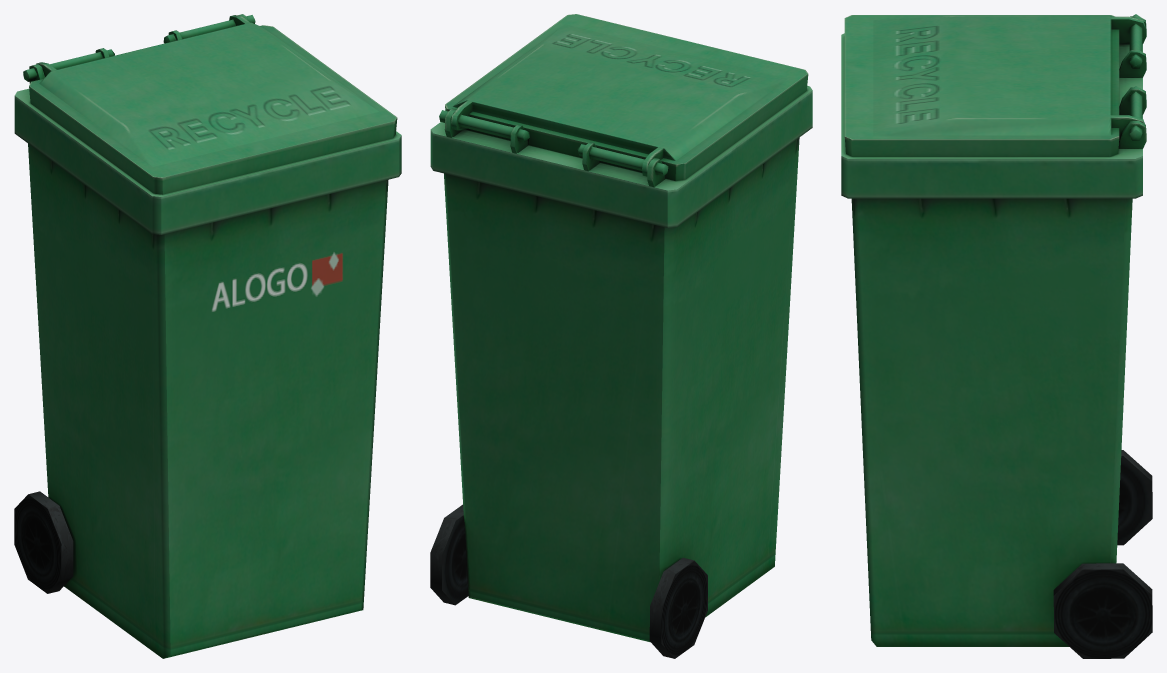
Rendered from Sun_0010_House_tall_plastic_lidded_recycle_bin.fbx.
3 views of the same model, side by side, from view 1: azimuth 30°, elevation 25°; view 2: azimuth 150°, elevation 25°; view 3: azimuth 270°, elevation 25° (orthographic). The views are drawn at different scales.
Visible parts, largest first — view 1: Sun_0010_House_tall_plastic_lidded_recycle_bin; view 2: Sun_0010_House_tall_plastic_lidded_recycle_bin; view 3: Sun_0010_House_tall_plastic_lidded_recycle_bin.
Part boxes in pixels (x1=…): Sun_0010_House_tall_plastic_lidded_recycle_bin: x1=14, y1=14, x2=401, y2=658; Sun_0010_House_tall_plastic_lidded_recycle_bin: x1=430, y1=14, x2=812, y2=658; Sun_0010_House_tall_plastic_lidded_recycle_bin: x1=841, y1=14, x2=1152, y2=658.
Bounding box in the file's own units: 61.97 × 121 × 63.96.
